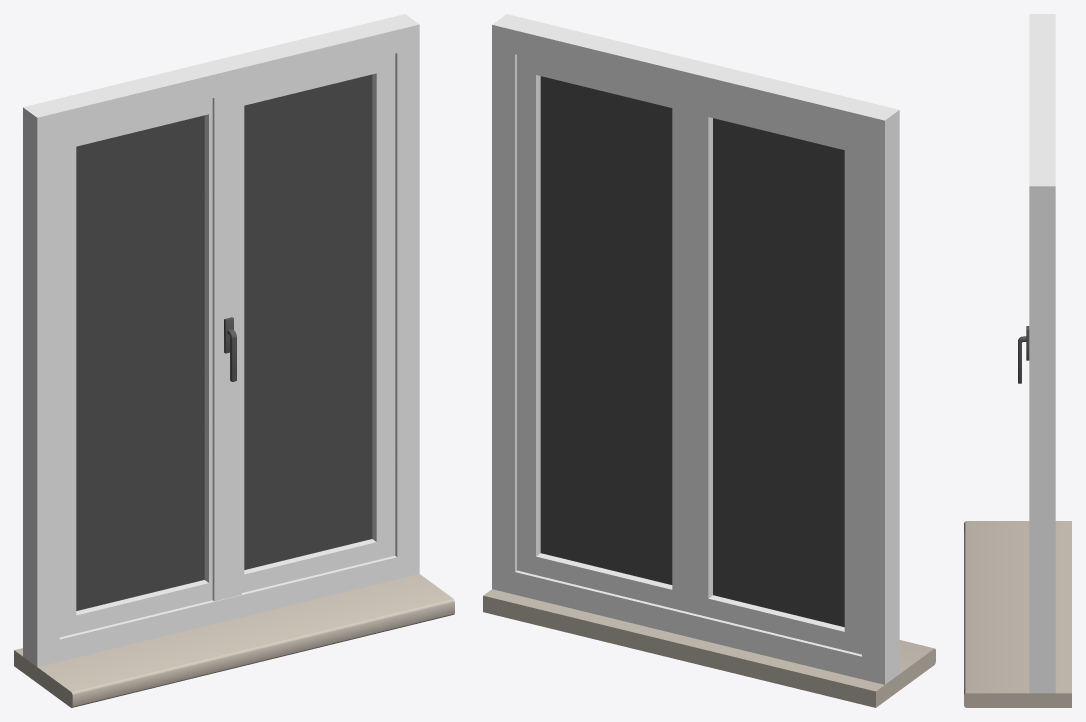
The model's file is Window.fbx.
The picture shows the model from 3 angles, left to right: view 1: azimuth 30°, elevation 25°; view 2: azimuth 150°, elevation 25°; view 3: azimuth 270°, elevation 25°; orthographic projection. The views are drawn at different scales.
Visible parts, largest first — view 1: glass, window, sash_2, sill, sash_1; view 2: glass, window, sash_2, sash_1, sill; view 3: window, sill, handle.
Part boxes in pixels (bbox=[...]): glass: bbox=[76, 74, 372, 610]; window: bbox=[23, 14, 419, 666]; sash_2: bbox=[212, 54, 395, 601]; sill: bbox=[14, 574, 454, 707]; sash_1: bbox=[59, 98, 212, 637]; glass: bbox=[540, 76, 844, 626]; window: bbox=[492, 14, 899, 684]; sash_2: bbox=[517, 55, 690, 612]; sash_1: bbox=[690, 97, 861, 654]; sill: bbox=[483, 589, 935, 707]; window: bbox=[1029, 14, 1055, 693]; sill: bbox=[964, 521, 1071, 707]; handle: bbox=[1018, 326, 1029, 383].
Size of the model in its own units: 9.97 by 14.08 by 2.64.
